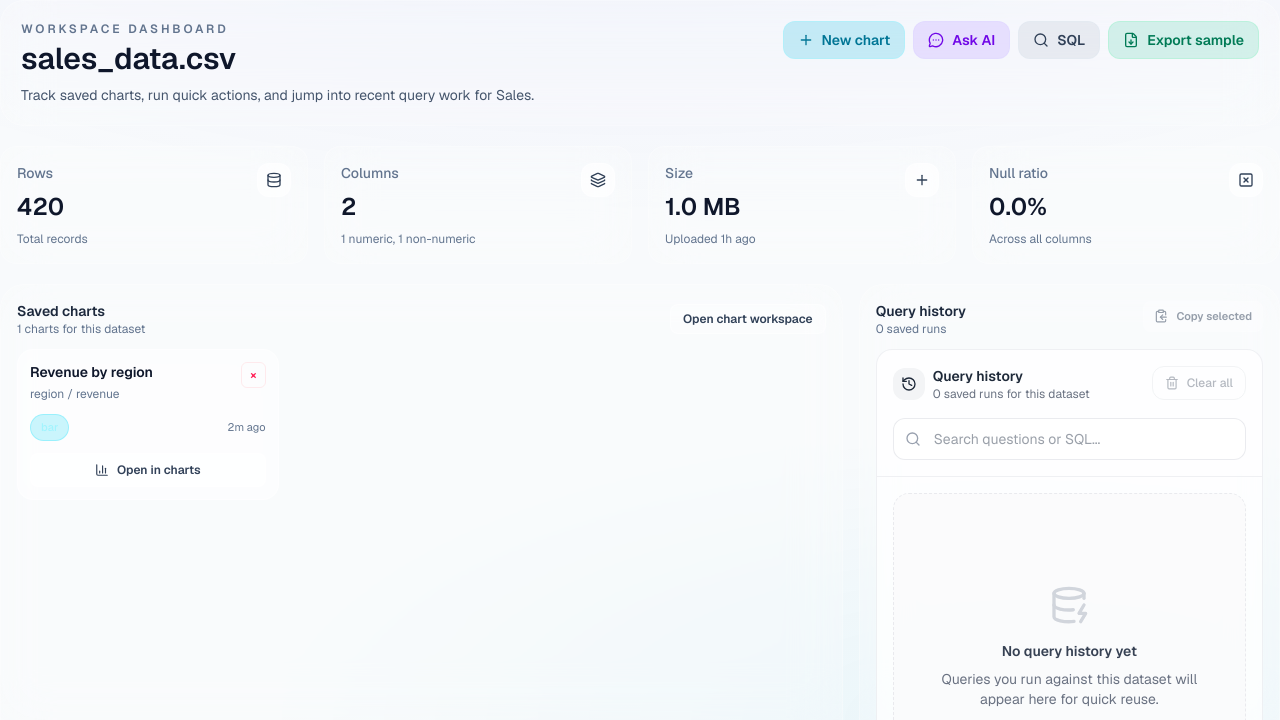
Test case: DashboardPage › exports sample rows from active dataset and displays status
Click the button "Export sample" at (1184, 40), box x1=1108 y1=21 x2=1259 y2=59
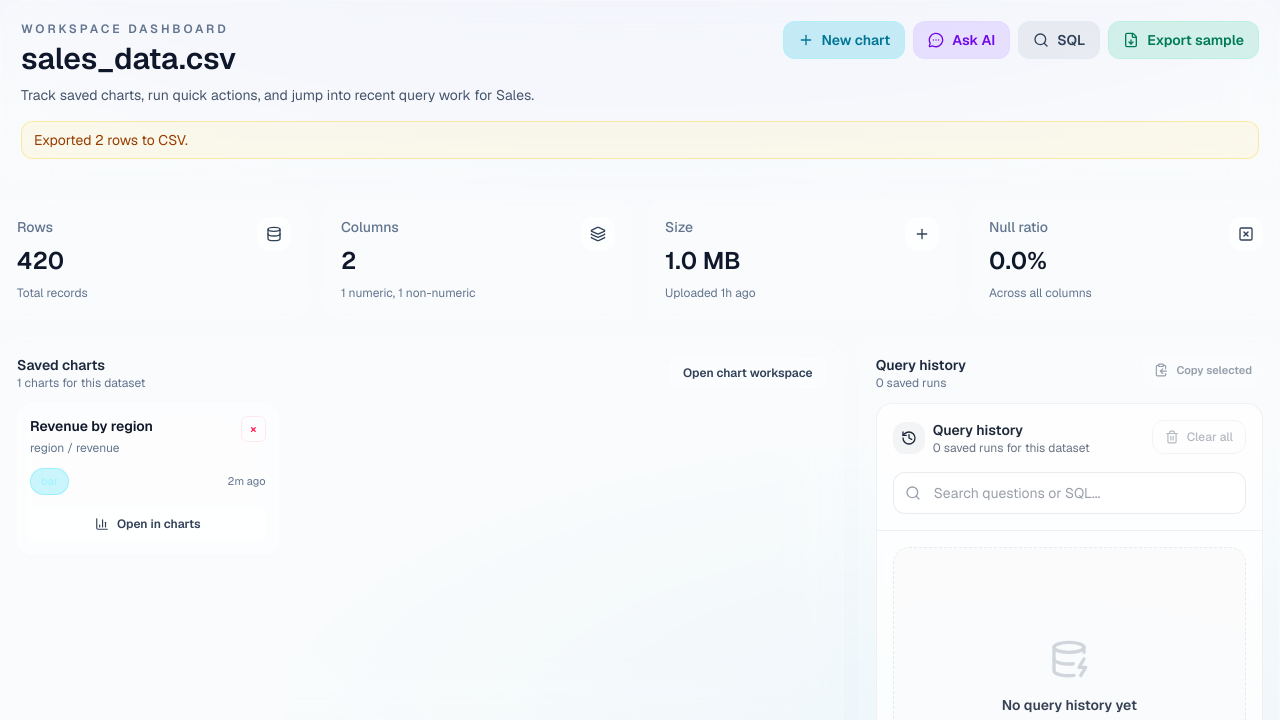
Expected: the text "Exported 2 rows to CSV." is shown, x1=21 y1=121 x2=1259 y2=159
